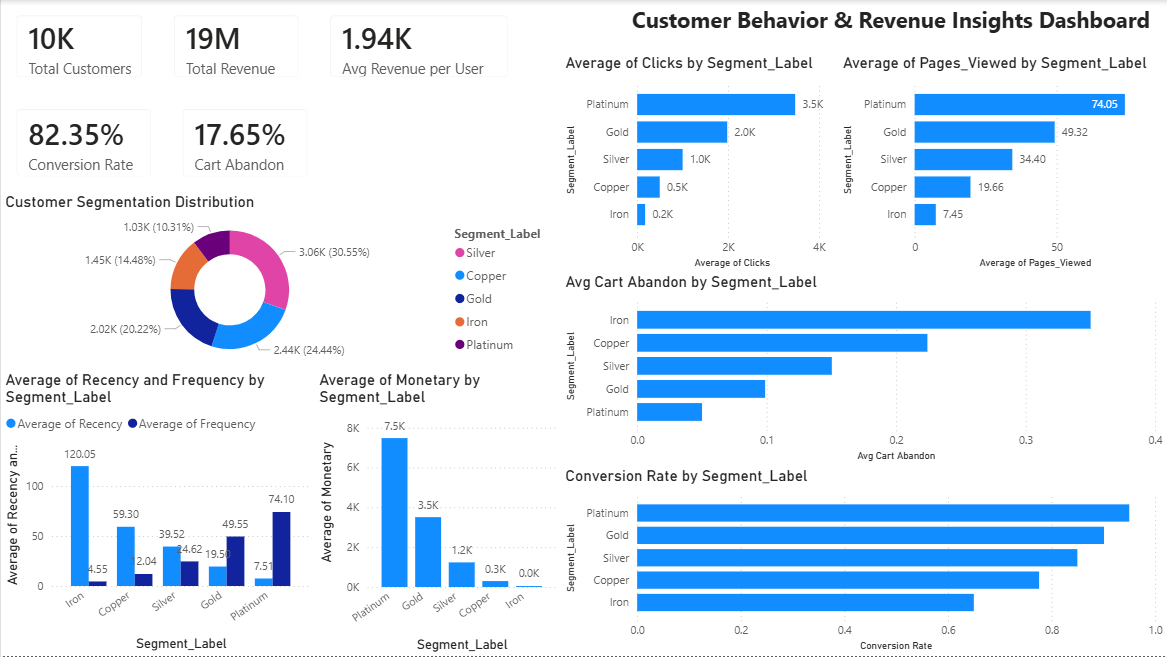

This screenshot's page, from the dashboard's own definition file:
{"tool":"powerbi","page":{"name":"Page 1","canvas":[1280,720],"ordinal":0},"visuals":[{"type":"donutChart","title":"Customer Segmentation Distribution","fields":{"Category":["ecommerce_user_segmentation.Segment_Label"],"Y":["CountNonNull(ecommerce_user_segmentation.Customer_ID)"]},"box":[0,211.3,614.8,194.9],"z":0},{"type":"clusteredColumnChart","title":"Average of Recency and Frequency by Segment_Label","fields":{"Category":["ecommerce_user_segmentation.Segment_Label"],"Y":["Avg(ecommerce_user_segmentation.Recency)","Avg(ecommerce_user_segmentation.Frequency)"]},"box":[0,406.2,344.4,312.9],"z":1000},{"type":"clusteredColumnChart","fields":{"Category":["ecommerce_user_segmentation.Segment_Label"],"Y":["Avg(ecommerce_user_segmentation.Monetary)"]},"box":[344.4,406.2,270.3,314.2],"z":2000},{"type":"barChart","fields":{"Category":["ecommerce_user_segmentation.Segment_Label"],"Y":["ecommerce_user_segmentation.Conversion Rate"]},"box":[614.8,511.8,665.5,208.6],"z":3000},{"type":"barChart","fields":{"Category":["ecommerce_user_segmentation.Segment_Label"],"Y":["ecommerce_user_segmentation.Avg Cart Abandon"]},"box":[614.8,299.1,665.5,212.7],"z":4000},{"type":"barChart","fields":{"Category":["ecommerce_user_segmentation.Segment_Label"],"Y":["Avg(ecommerce_user_segmentation.Clicks)"]},"box":[614.8,59,304.6,240.1],"z":5000},{"type":"barChart","fields":{"Category":["ecommerce_user_segmentation.Segment_Label"],"Y":["Avg(ecommerce_user_segmentation.Pages_Viewed)"]},"box":[919.4,59,360.9,240.1],"z":6000},{"type":"cardVisual","fields":{"Data":["ecommerce_user_segmentation.Total Users"]},"box":[0,0,172.9,102.9],"z":7000},{"type":"cardVisual","fields":{"Data":["Sum(ecommerce_user_segmentation.Monetary)"]},"box":[172.9,0,171.5,102.9],"z":8000},{"type":"cardVisual","fields":{"Data":["ecommerce_user_segmentation.Avg Revenue per User"]},"box":[344.4,0,229.2,102.9],"z":9000},{"type":"cardVisual","fields":{"Data":["ecommerce_user_segmentation.Conversion Rate"]},"box":[0,102.9,182.5,108.4],"z":10000},{"type":"cardVisual","fields":{"Data":["ecommerce_user_segmentation.Avg Cart Abandon"]},"box":[182.5,102.9,171.5,108.4],"z":11000},{"type":"textbox","box":[673.8,0,606.5,45.3],"z":12000}]}

Visuals, with their boxes in screenshot pixels (x1, y1, x2, y2), scaled from the page's 1280x720 canvas onto the 1167x657 screenshot:
"Customer Segmentation Distribution" donutChart: <bbox>0, 193, 561, 371</bbox>
"Average of Recency and Frequency by Segment_Label" clusteredColumnChart: <bbox>0, 371, 314, 656</bbox>
clusteredColumnChart - ecommerce_user_segmentation.Segment_Label x Avg(ecommerce_user_segmentation.Monetary): <bbox>314, 371, 560, 656</bbox>
barChart - ecommerce_user_segmentation.Segment_Label x ecommerce_user_segmentation.Conversion Rate: <bbox>561, 467, 1166, 656</bbox>
barChart - ecommerce_user_segmentation.Segment_Label x ecommerce_user_segmentation.Avg Cart Abandon: <bbox>561, 273, 1166, 467</bbox>
barChart - ecommerce_user_segmentation.Segment_Label x Avg(ecommerce_user_segmentation.Clicks): <bbox>561, 54, 838, 273</bbox>
barChart - ecommerce_user_segmentation.Segment_Label x Avg(ecommerce_user_segmentation.Pages_Viewed): <bbox>838, 54, 1166, 273</bbox>
cardVisual - ecommerce_user_segmentation.Total Users: <bbox>0, 0, 158, 94</bbox>
cardVisual - Sum(ecommerce_user_segmentation.Monetary): <bbox>158, 0, 314, 94</bbox>
cardVisual - ecommerce_user_segmentation.Avg Revenue per User: <bbox>314, 0, 523, 94</bbox>
cardVisual - ecommerce_user_segmentation.Conversion Rate: <bbox>0, 94, 166, 193</bbox>
cardVisual - ecommerce_user_segmentation.Avg Cart Abandon: <bbox>166, 94, 323, 193</bbox>
textbox: <bbox>614, 0, 1166, 41</bbox>
